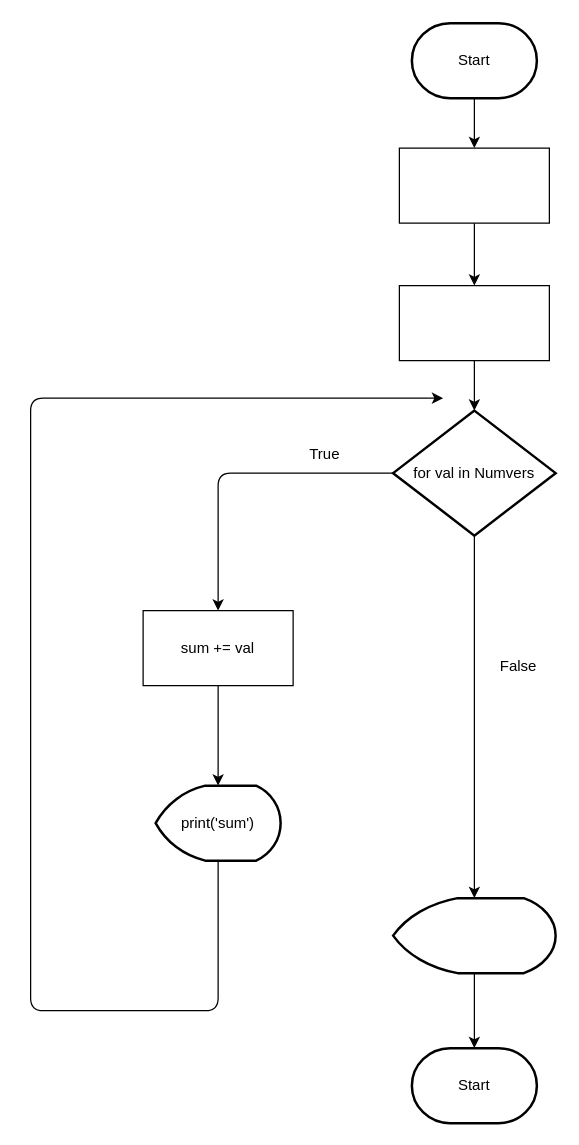
This 579x1145 diagram has some shape labels left out. The shapes that lost their labels are listed below. From the top down, each one's centre as x and y in pixels, then its label:
At point (473, 185): "Numbers = 6 5 3 8 4 2 5 4 11".
At point (473, 322): "sum = 0".
At point (473, 935): "print('the sum is',sim)".
